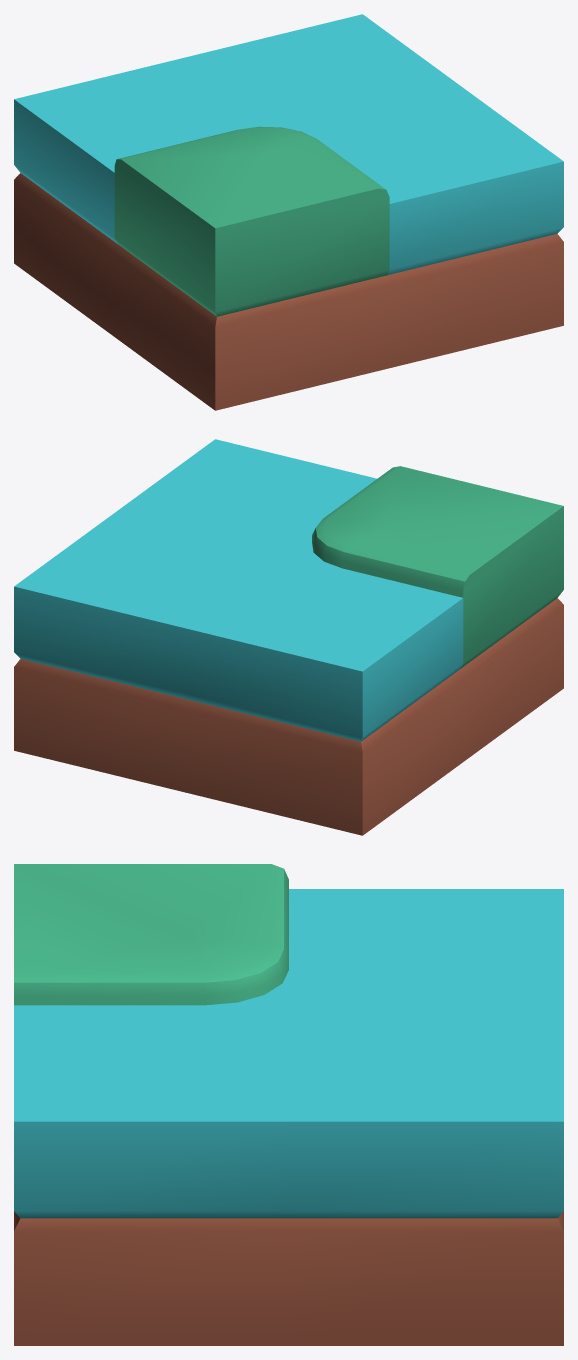
The model's file is square_forest_waterOuterCorner.glb.
The picture shows the model from 3 angles, top to bottom: view 1: azimuth 30°, elevation 25°; view 2: azimuth 150°, elevation 25°; view 3: azimuth 270°, elevation 25°; orthographic projection. The views are drawn at different scales.
Parts seen in each view (by area): view 1: square_forest_waterOuterCorner; view 2: square_forest_waterOuterCorner; view 3: square_forest_waterOuterCorner.
Boxes of the visible parts, x1=… form: square_forest_waterOuterCorner: x1=14, y1=14, x2=563, y2=410; square_forest_waterOuterCorner: x1=14, y1=439, x2=563, y2=835; square_forest_waterOuterCorner: x1=14, y1=864, x2=563, y2=1345.
Size of the model in its own units: 2 by 1 by 2.
